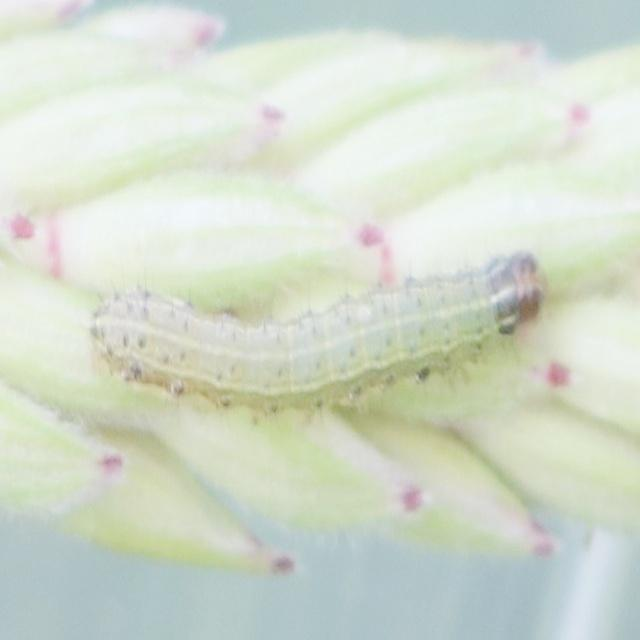gusano_cogollero: (97, 246, 535, 422)
